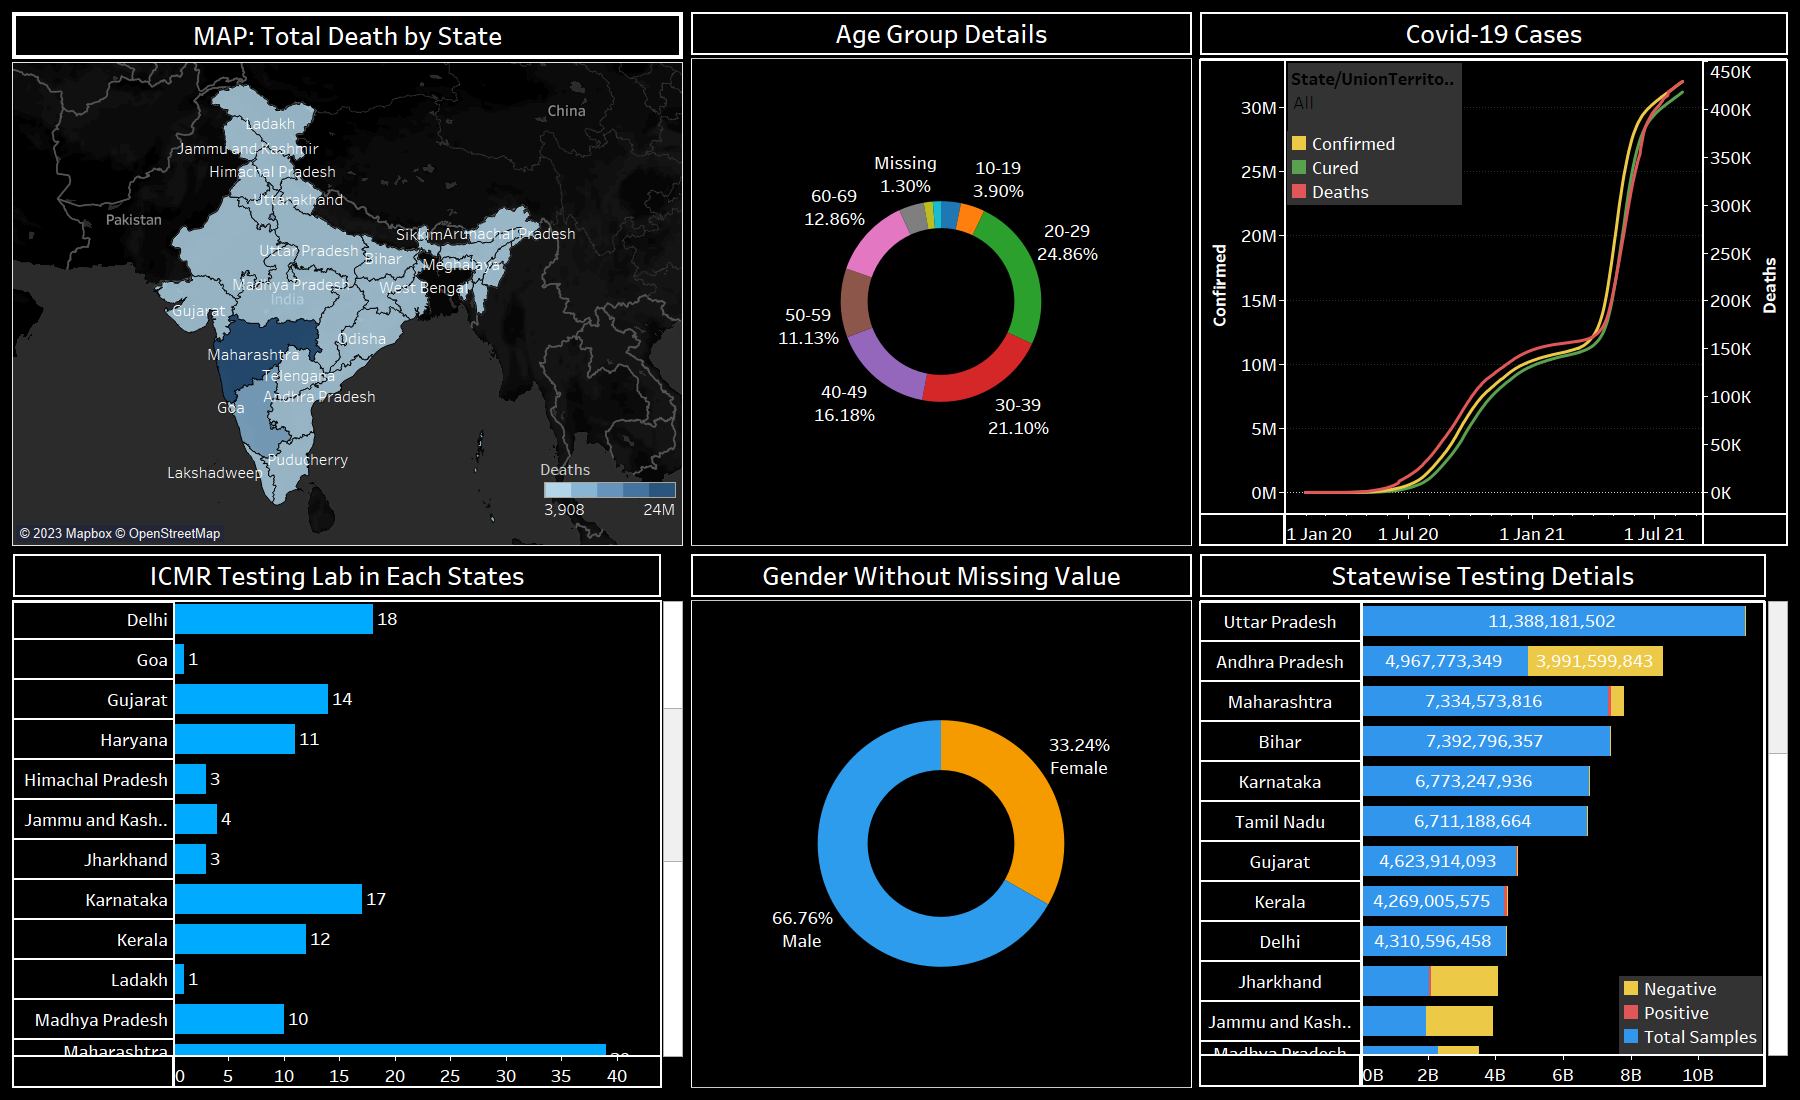

Layout of this report page (visuals, bound fields, positions):
{"tool":"tableau","page":{"name":"Dashboard 1","canvas":[1800,1100],"ordinal":0},"visuals":[{"type":"worksheet","title":"Map","mark":"Automatic","box":[8,8,678.9,542]},{"type":"worksheet","title":"Age Group Details","mark":"Pie","rows":["Calculation_858217232286269443","Calculation_858217232286203905"],"box":[686.9,8,508.6,542]},{"type":"worksheet","title":"Covid Case by State","mark":"Automatic","rows":["Deaths"],"cols":["Date"],"box":[1195.5,8,596.5,542]},{"type":"filter","title":"Covid Case by State","param":"[federated.06nupyd178j9b01b24ps30v1cetq].[none:State/UnionTerritory:nk]","box":[1286,61,178,73]},{"type":"legend","title":"Covid Case by State","param":"[federated.06nupyd178j9b01b24ps30v1cetq].[:Measure Names]","box":[1287,131,175,74]},{"type":"legend","title":"Map","param":"[federated.06nupyd178j9b01b24ps30v1cetq].[sum:Deaths:qk]","box":[540,455,140,88]},{"type":"worksheet","title":"ICMR Testing Lab in Each States","mark":"Automatic","rows":["state"],"cols":["lab"],"box":[8,550,678.9,542]},{"type":"worksheet","title":"Gender Without Missing Value","mark":"Pie","rows":["Calculation_858217232358998023","Calculation_858217232359014409"],"box":[686.9,550,508.6,542]},{"type":"worksheet","title":"Statewise Testing Detials","mark":"Automatic","rows":["State"],"box":[1195.5,550,596.5,542]},{"type":"legend","title":"Statewise Testing Detials","param":"[federated.1or3xba0kf2v9a16g3yuu0orci1m].[:Measure Names]","box":[1619,976,143,78]}]}

Visuals, with their boxes in screenshot pixels (x1, y1, x2, y2), scaled from the page's 1800x1100 canvas onto the 1800x1100 screenshot:
"Map" worksheet: 8,8,687,550
"Age Group Details" worksheet (Pie marks): 687,8,1196,550
"Covid Case by State" worksheet: 1196,8,1792,550
"Covid Case by State" filter: 1286,61,1464,134
"Covid Case by State" legend: 1287,131,1462,205
"Map" legend: 540,455,680,543
"ICMR Testing Lab in Each States" worksheet: 8,550,687,1092
"Gender Without Missing Value" worksheet (Pie marks): 687,550,1196,1092
"Statewise Testing Detials" worksheet: 1196,550,1792,1092
"Statewise Testing Detials" legend: 1619,976,1762,1054
